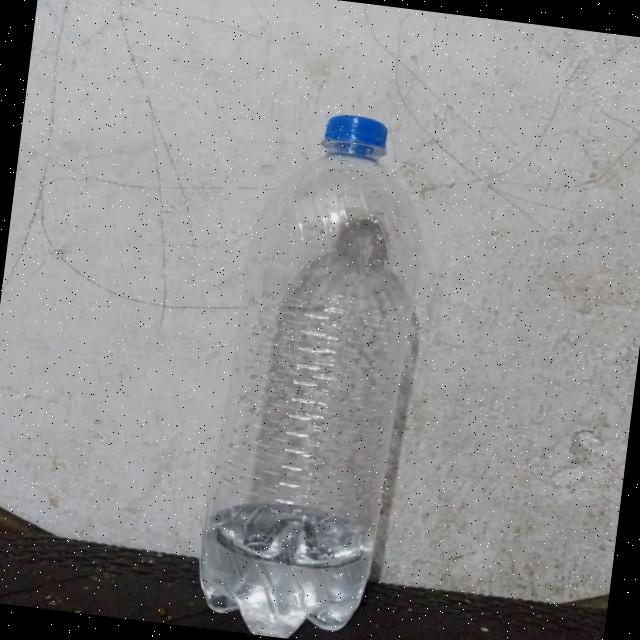bottle: (172, 78, 465, 640)
cap: (310, 106, 396, 166)
